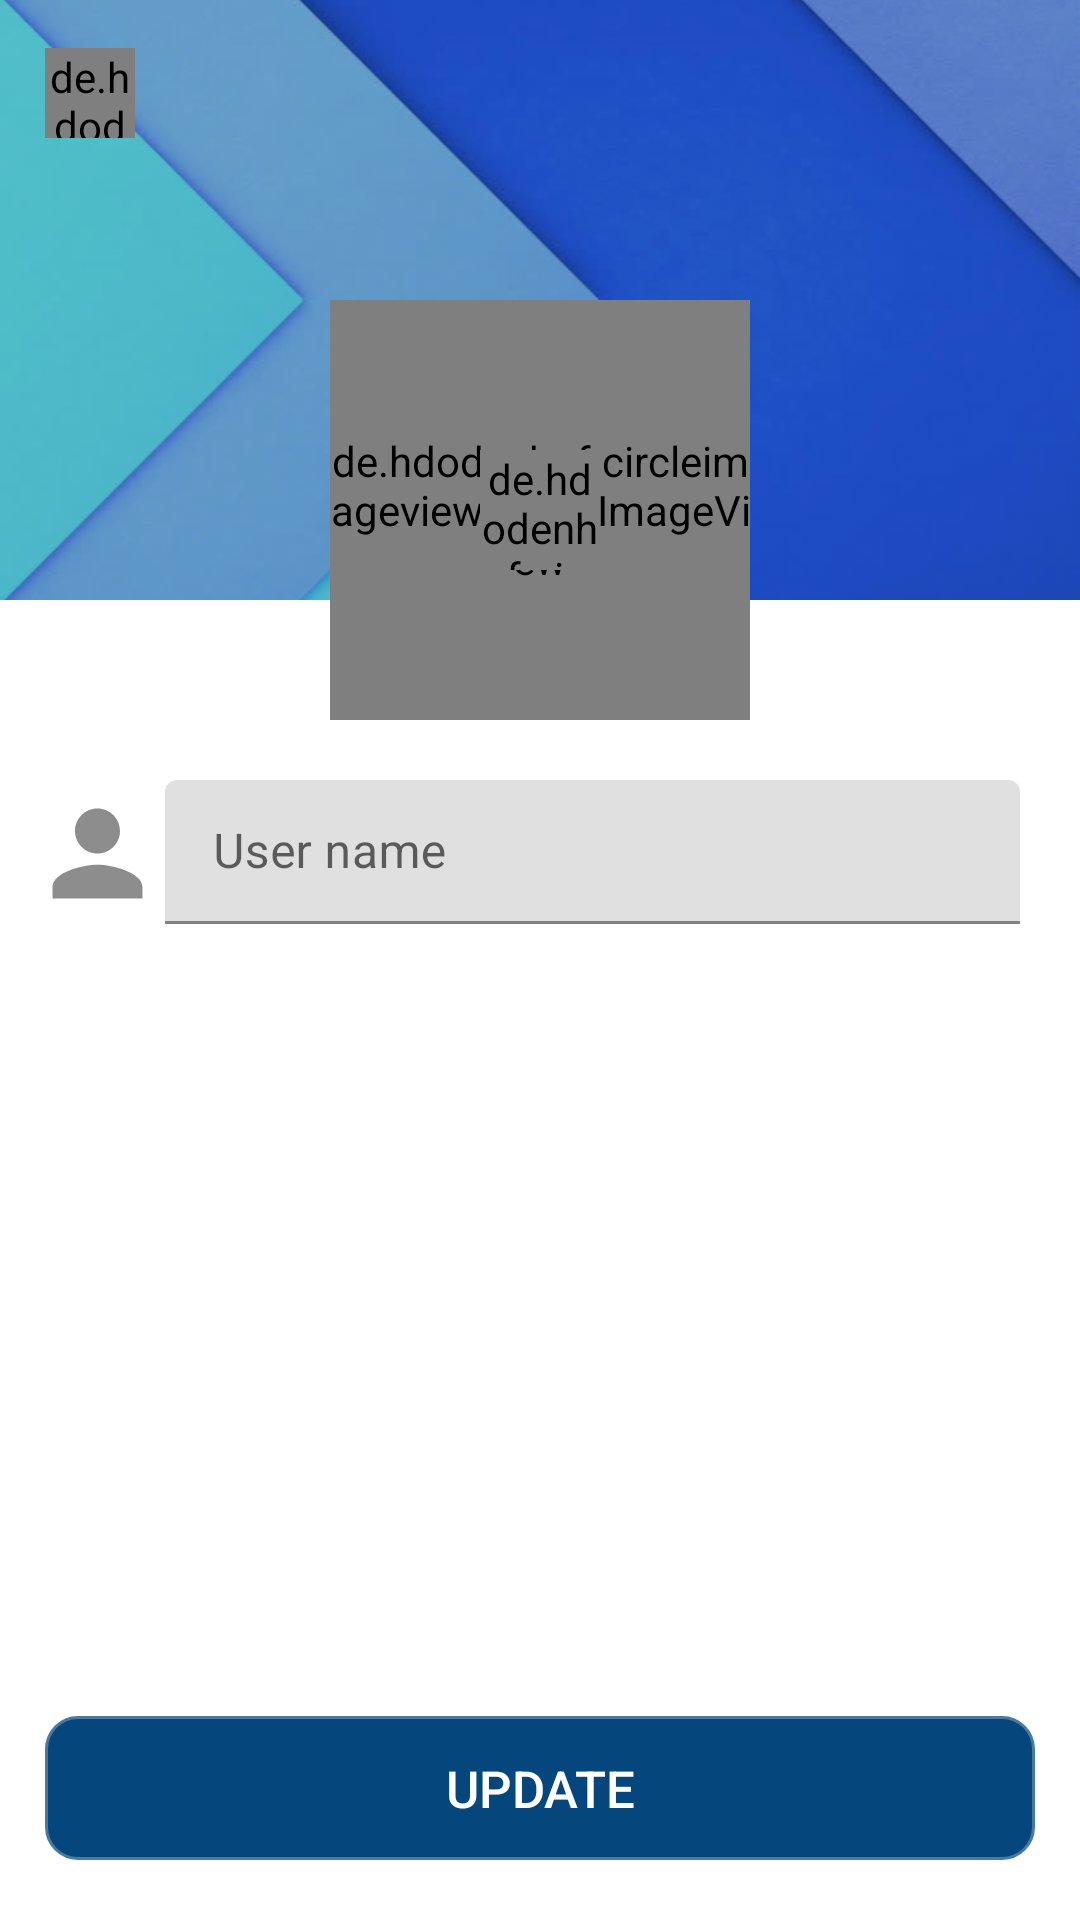

Icon click points for this 1080 x 1920 phone screenshot, format point (x, y):
person: point (97, 853)
